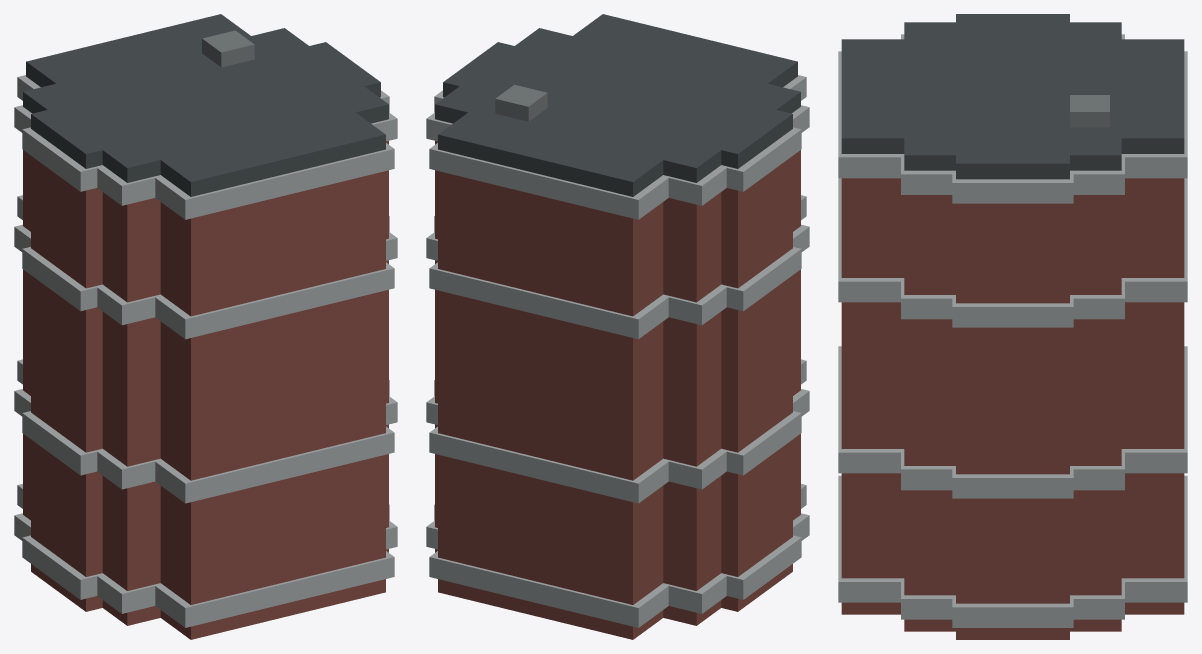
Rendered from CMU3DBarrelRed.glb.
3 views of the same model, side by side, from view 1: azimuth 30°, elevation 25°; view 2: azimuth 150°, elevation 25°; view 3: azimuth 270°, elevation 25° (orthographic). The views are drawn at different scales.
Parts seen in each view (by area): view 1: curved body segment 1, curved body segment 3, stepped hoop segment 1 (×4), curved body segment 2, lid segment 3, lid segment 1, stepped hoop segment 3 (×4), lid segment 2, stepped hoop segment 2 (×4), lid segment 5, lid segment 4, curved body segment 4 (+1 smaller); view 2: curved body segment 5, curved body segment 3, stepped hoop segment 5 (×4), curved body segment 4, lid segment 3, lid segment 5, stepped hoop segment 3 (×4), stepped hoop segment 4 (×4), lid segment 4, lid segment 2, lid segment 1, curved body segment 2 (+1 smaller); view 3: curved body segment 3, curved body segment 1, curved body segment 5, curved body segment 2, curved body segment 4, lid segment 3, stepped hoop segment 3 (×4), stepped hoop segment 1 (×4), stepped hoop segment 5 (×4), lid segment 2, lid segment 1, lid segment 5 (+4 smaller).
Part boxes in pixels (x1,y1,x2,y2): curved body segment 1: [160, 171, 385, 639]; curved body segment 3: [31, 156, 102, 611]; stepped hoop segment 1 (×4): [154, 143, 394, 627]; curved body segment 2: [102, 141, 388, 625]; lid segment 3: [31, 42, 380, 168]; lid segment 1: [160, 112, 385, 196]; stepped hoop segment 3 (×4): [22, 90, 389, 599]; lid segment 2: [102, 86, 388, 182]; stepped hoop segment 2 (×4): [96, 112, 397, 613]; lid segment 5: [26, 14, 250, 87]; lid segment 4: [23, 28, 308, 113]; curved body segment 4: [23, 150, 30, 520]; curved body segment 5: [438, 171, 663, 639]; curved body segment 3: [721, 156, 792, 611]; stepped hoop segment 5 (×4): [429, 143, 669, 627]; curved body segment 4: [435, 141, 721, 625]; lid segment 3: [443, 42, 792, 168]; lid segment 5: [438, 112, 663, 196]; stepped hoop segment 3 (×4): [434, 90, 801, 599]; stepped hoop segment 4 (×4): [426, 112, 727, 613]; lid segment 4: [435, 86, 721, 182]; lid segment 2: [515, 28, 800, 113]; lid segment 1: [573, 14, 797, 87]; curved body segment 2: [793, 150, 800, 520]; curved body segment 3: [956, 203, 1069, 639]; curved body segment 1: [841, 178, 904, 614]; curved body segment 5: [1121, 178, 1184, 614]; curved body segment 2: [904, 195, 955, 631]; curved body segment 4: [1070, 195, 1121, 631]; lid segment 3: [956, 14, 1069, 179]; stepped hoop segment 3 (×4): [952, 170, 1073, 627]; stepped hoop segment 1 (×4): [838, 51, 904, 602]; stepped hoop segment 5 (×4): [1122, 51, 1187, 602]; lid segment 2: [904, 22, 955, 170]; lid segment 1: [841, 39, 904, 153]; lid segment 5: [1121, 39, 1184, 153].
Bounding box in the file's own units: 0.65 × 0.95 × 0.612.
